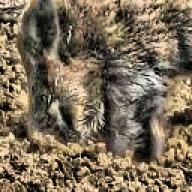boar: (15, 0, 192, 164)
